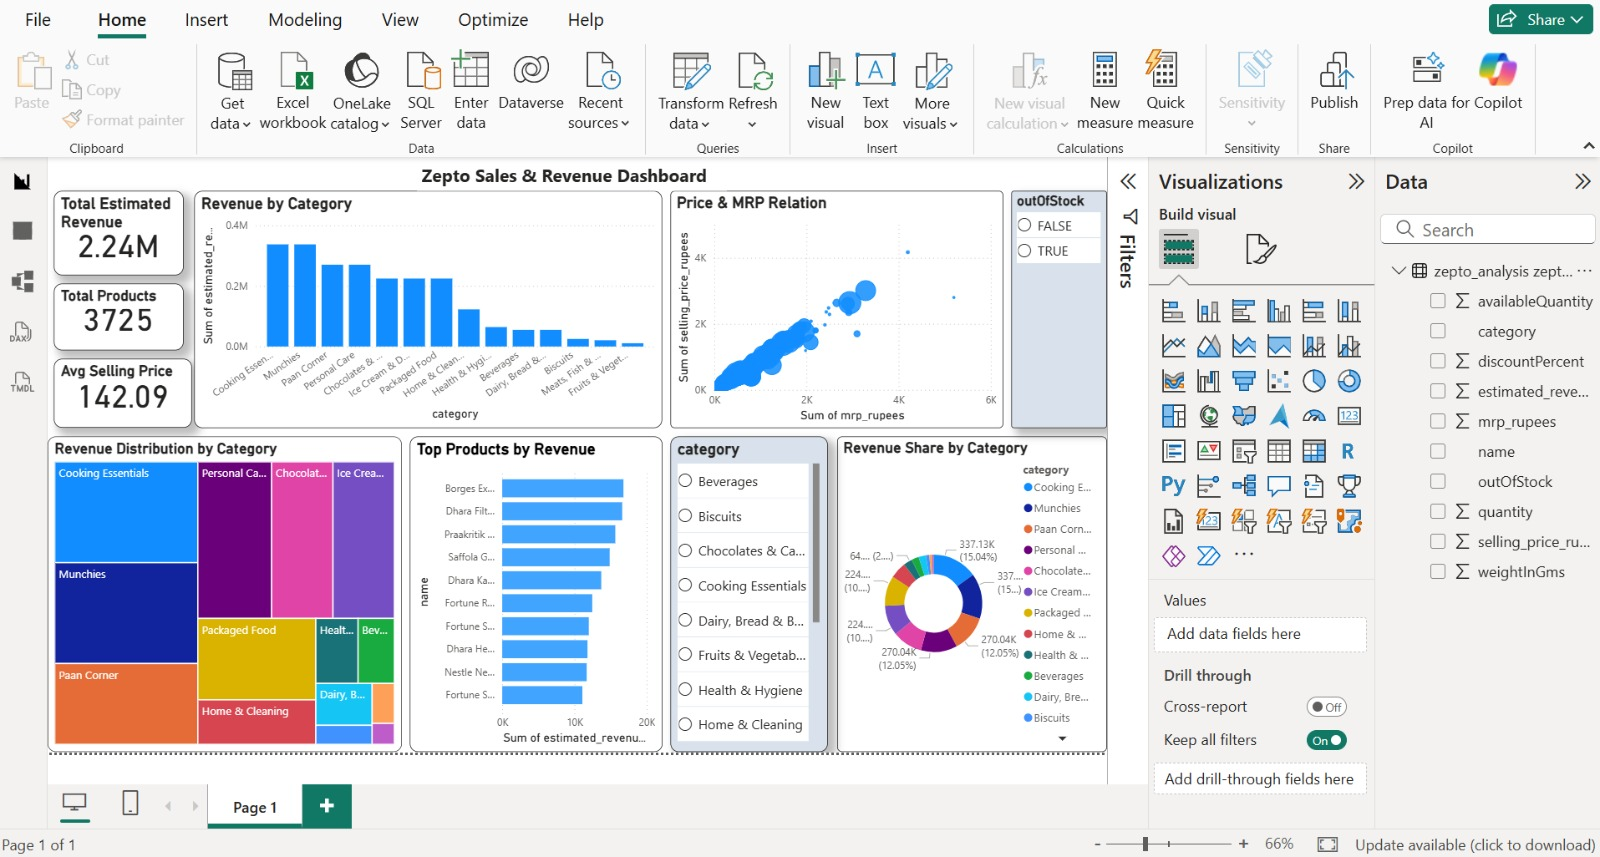

The dashboard page shown, as its layout file describes it:
{"tool":"powerbi","page":{"name":"Page 1","canvas":[1280,720],"ordinal":0},"visuals":[{"type":"card","title":"Total Estimated Revenue","fields":{"Values":["Sum(zepto_analysis zepto_analysis.estimated_revenue_rupees)"]},"box":[7.3,40.9,156.4,102.3],"z":0},{"type":"card","title":"Total Products","fields":{"Values":["CountNonNull(zepto_analysis zepto_analysis.name)"]},"box":[7.3,153.5,156.4,80.4],"z":1},{"type":"card","title":"Avg Selling Price","fields":{"Values":["Avg(zepto_analysis zepto_analysis.selling_price_rupees)"]},"box":[7.3,244.1,166.6,83.3],"z":2},{"type":"columnChart","title":"Revenue by Category","fields":{"Category":["zepto_analysis zepto_analysis.category"],"Y":["Sum(zepto_analysis zepto_analysis.estimated_revenue_rupees)"]},"box":[176.8,40.9,565.6,286.4],"z":3},{"type":"clusteredBarChart","title":"Top Products by Revenue","fields":{"Category":["zepto_analysis zepto_analysis.name"],"Y":["Sum(zepto_analysis zepto_analysis.estimated_revenue_rupees)"]},"box":[437,337.6,305.4,381.4],"z":4},{"type":"scatterChart","title":"Price & MRP Relation","fields":{"X":["Sum(zepto_analysis zepto_analysis.mrp_rupees)"],"Y":["Sum(zepto_analysis zepto_analysis.selling_price_rupees)"],"Size":["Sum(zepto_analysis zepto_analysis.quantity)"],"Category":["zepto_analysis zepto_analysis.name"]},"box":[752.7,40.9,401.9,286.4],"z":5},{"type":"donutChart","title":"Revenue Share by Category","fields":{"Category":["zepto_analysis zepto_analysis.category"],"Y":["Sum(zepto_analysis zepto_analysis.estimated_revenue_rupees)"]},"box":[954.3,337.6,325.9,381.4],"z":6},{"type":"treemap","title":"Revenue Distribution by Category","fields":{"Group":["zepto_analysis zepto_analysis.category"],"Values":["Sum(zepto_analysis zepto_analysis.estimated_revenue_rupees)"]},"box":[0,337.6,428.2,381.4],"z":7},{"type":"listSlicer","fields":{"Values":["zepto_analysis zepto_analysis.category"]},"box":[752.7,337.6,190,381.4],"z":8},{"type":"listSlicer","fields":{"Values":["zepto_analysis zepto_analysis.outOfStock"]},"box":[1164.8,40.9,115.5,286.4],"z":9},{"type":"textbox","box":[447.2,1.5,374.1,39.5],"z":11}]}

Visuals, with their boxes on the page's 1280x720 design canvas (x1, y1, x2, y2). These are canvas units, not pixel positions in the 1600x857 screenshot, which may show the page scaled, cropped or inside an application window:
"Total Estimated Revenue" card: <box>7,41,164,143</box>
"Total Products" card: <box>7,154,164,234</box>
"Avg Selling Price" card: <box>7,244,174,327</box>
"Revenue by Category" columnChart: <box>177,41,742,327</box>
"Top Products by Revenue" clusteredBarChart: <box>437,338,742,719</box>
"Price & MRP Relation" scatterChart: <box>753,41,1155,327</box>
"Revenue Share by Category" donutChart: <box>954,338,1280,719</box>
"Revenue Distribution by Category" treemap: <box>0,338,428,719</box>
listSlicer - zepto_analysis zepto_analysis.category: <box>753,338,943,719</box>
listSlicer - zepto_analysis zepto_analysis.outOfStock: <box>1165,41,1280,327</box>
textbox: <box>447,2,821,41</box>
